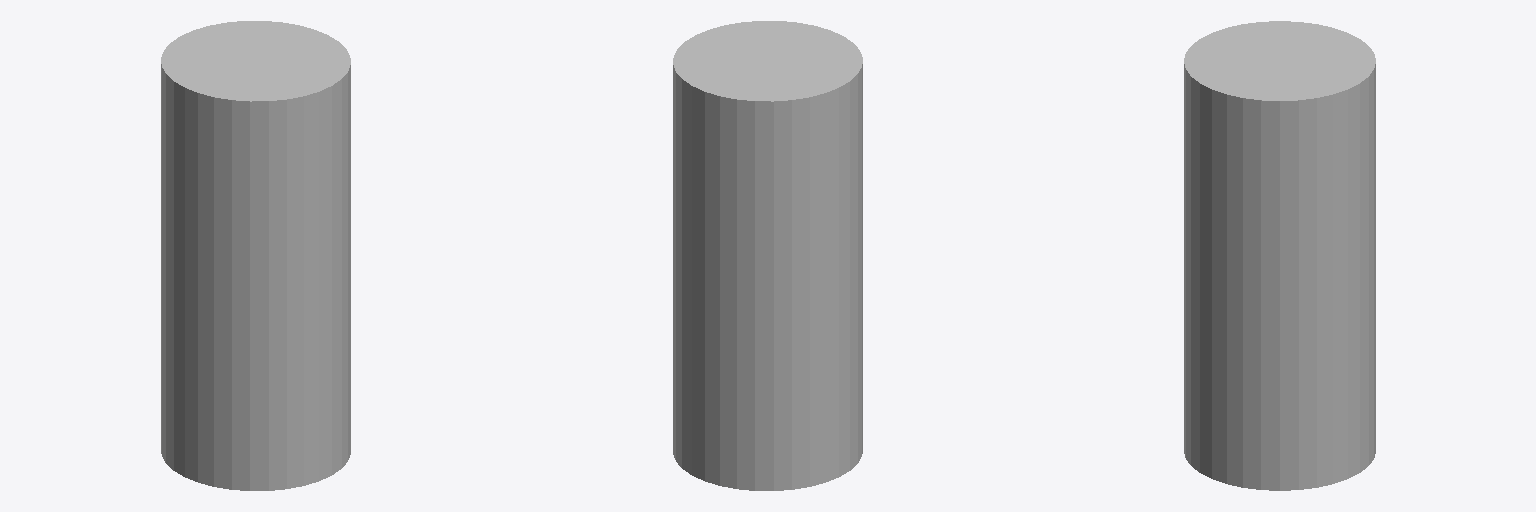
The model's file is Battery6.obj.
3 views of the same model, side by side, from view 1: azimuth 30°, elevation 25°; view 2: azimuth 150°, elevation 25°; view 3: azimuth 270°, elevation 25° (orthographic).
Visible parts, largest first — view 1: Cylinder; view 2: Cylinder; view 3: Cylinder.
Boxes of the visible parts, x1=… form: Cylinder: x1=161, y1=21, x2=350, y2=490; Cylinder: x1=673, y1=21, x2=862, y2=490; Cylinder: x1=1184, y1=21, x2=1375, y2=490.
Size of the model in its own units: 0.0267 by 0.0604 by 0.027.